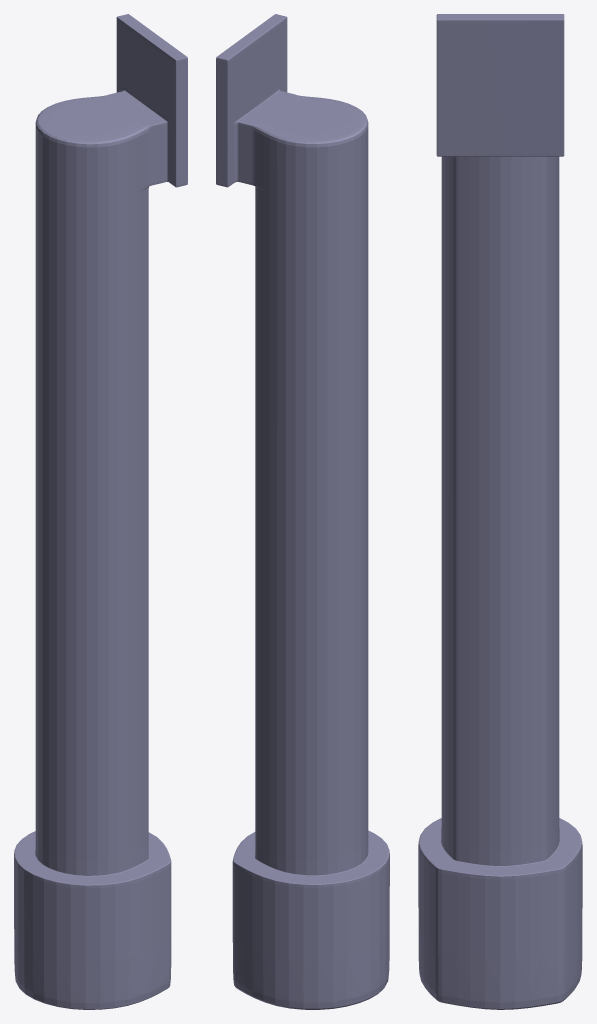
File: cylinder_L_LowPoly.obj
3 views of the same model, side by side, from view 1: azimuth 30°, elevation 25°; view 2: azimuth 150°, elevation 25°; view 3: azimuth 270°, elevation 25° (orthographic). The views are drawn at different scales.
Visible parts, largest first — view 1: cylinder_L_LowPoly\Facets; view 2: cylinder_L_LowPoly\Facets; view 3: cylinder_L_LowPoly\Facets.
Part boxes in pixels (bbox=[...]): cylinder_L_LowPoly\Facets: bbox=[14, 14, 187, 1009]; cylinder_L_LowPoly\Facets: bbox=[216, 14, 389, 1009]; cylinder_L_LowPoly\Facets: bbox=[418, 14, 582, 1009].
Size of the model in its own units: 0.1664 by 1.1 by 0.1647.
